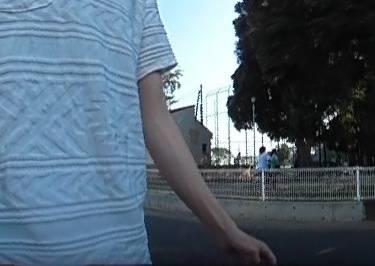person: (255, 143, 268, 177), (269, 149, 279, 177)
